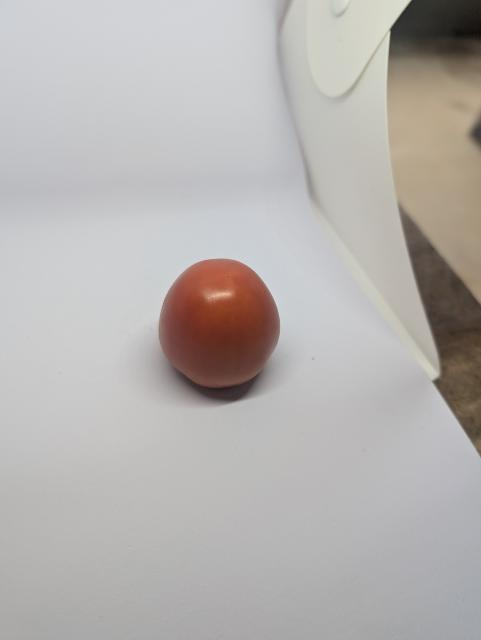red: (158, 254, 298, 399)
